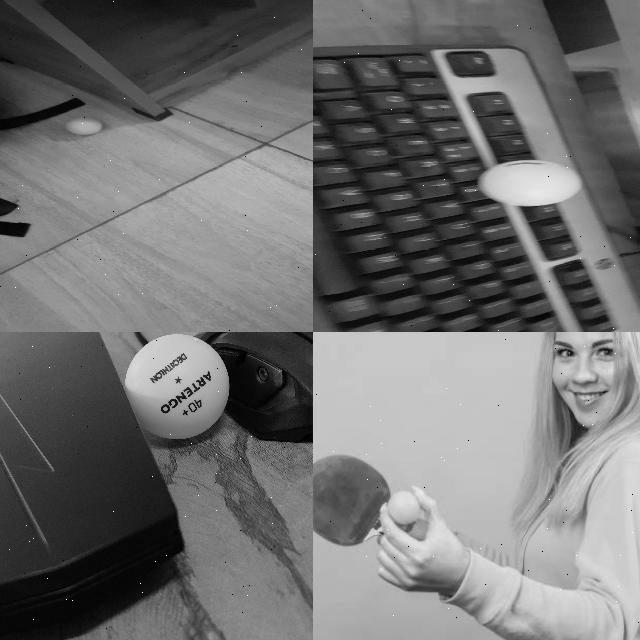ping-pong-ball: (125, 332, 231, 440), (480, 160, 580, 208), (387, 492, 421, 526), (68, 118, 100, 132)
